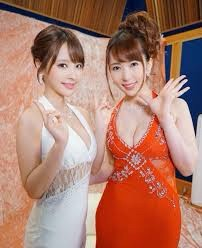people: (102, 29, 177, 248), (25, 25, 91, 248)
